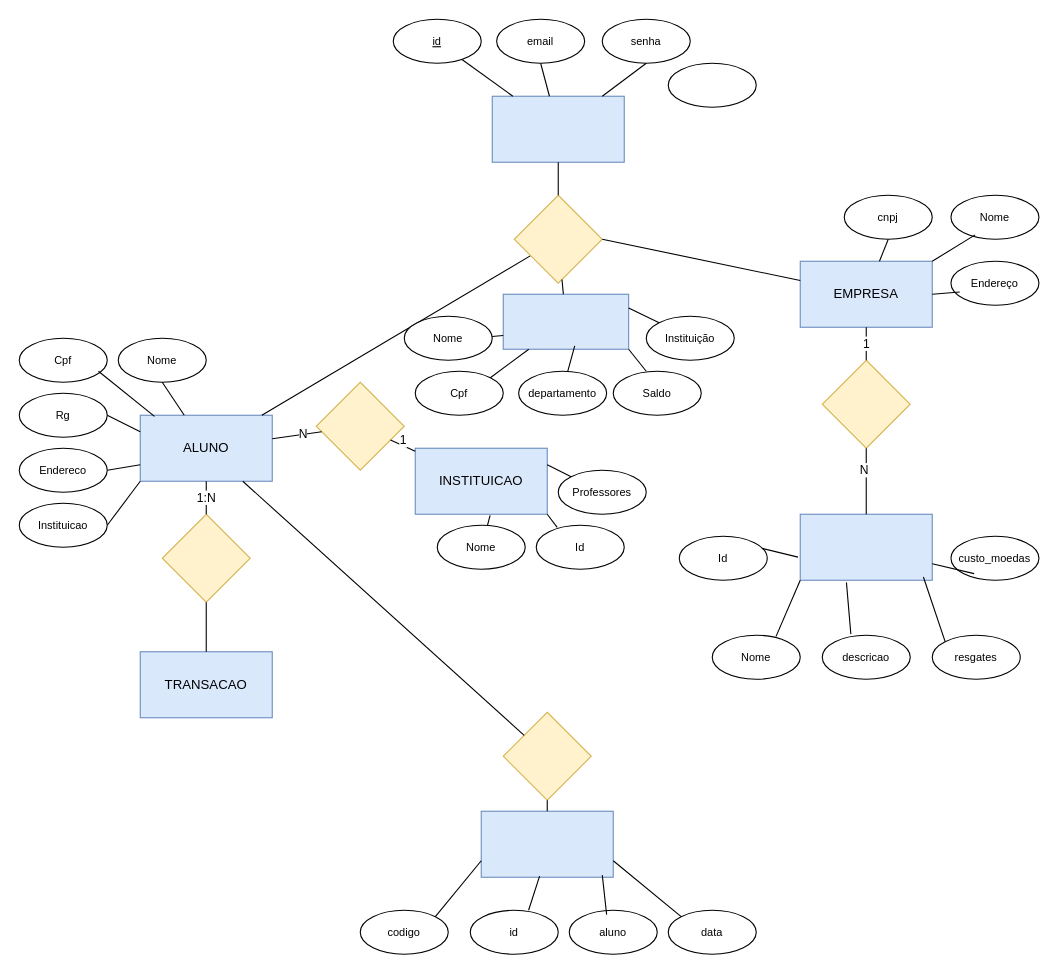
Image size: 1058x974. Some labels were removed from this diagram. Here are the shapes that lost their labels. From the top down, the centre of each, then its label:
the point at 711,84: Role
the point at 557,128: USUARIO
the point at 557,238: É UM
the point at 565,321: PROFESSOR
the point at 865,403: OFERECE
the point at 359,425: PERTENCE
the point at 205,557: REALIZA
the point at 865,546: VANTAGEM
the point at 546,755: SOLICITA
the point at 546,843: RESGATE
